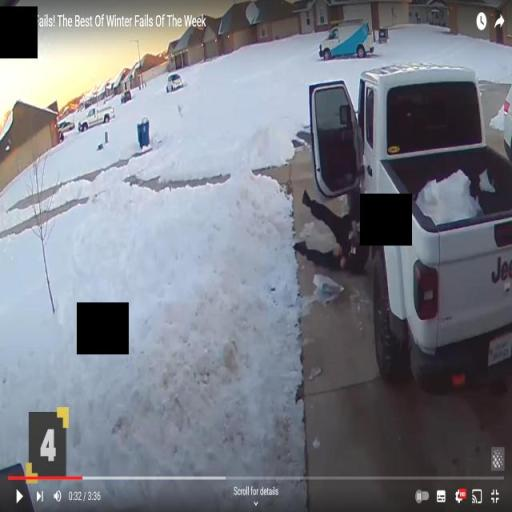Fall: (292, 168, 372, 278)
